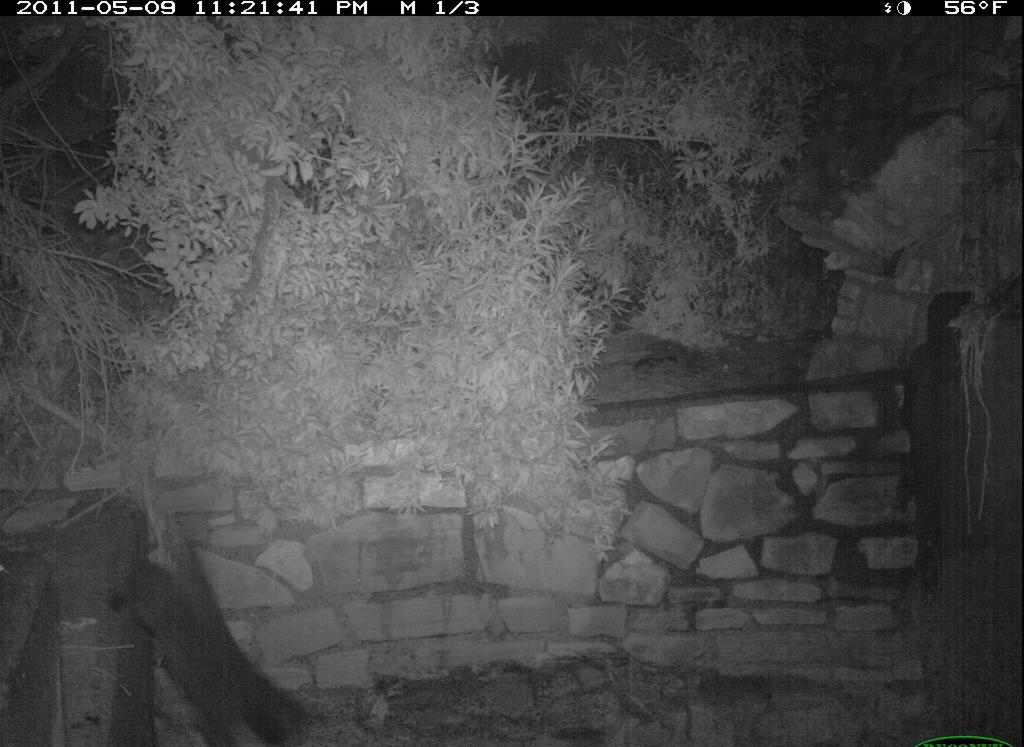cat: (116, 539, 305, 739)
